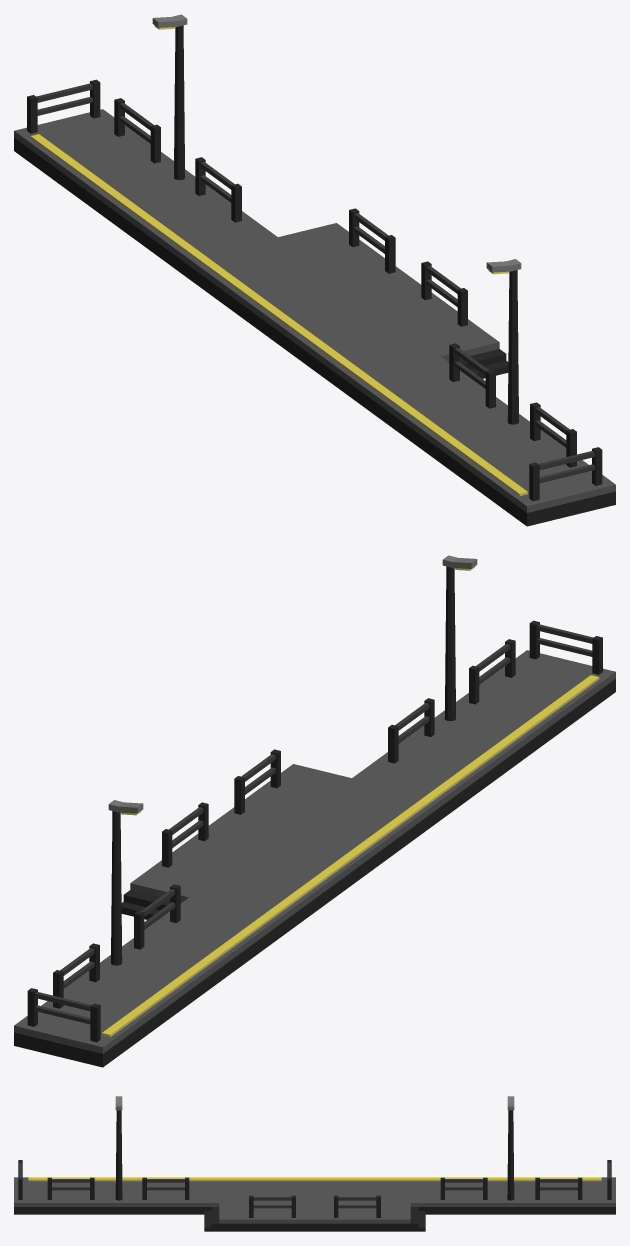
Rendered from station2.fbx.
3 views of the same model, one above another, from view 1: azimuth 30°, elevation 25°; view 2: azimuth 150°, elevation 25°; view 3: azimuth 270°, elevation 25° (orthographic). The views are drawn at different scales.
Parts seen in each view (by area): view 1: station2; view 2: station2; view 3: station2.
Part boxes in pixels (bbox=[...]): station2: bbox=[14, 14, 615, 526]; station2: bbox=[14, 555, 615, 1067]; station2: bbox=[14, 1096, 615, 1231].
Bounding box in the file's own units: 6 × 7.14 × 36.14.
Materials: 1 (1 with a texture image).
